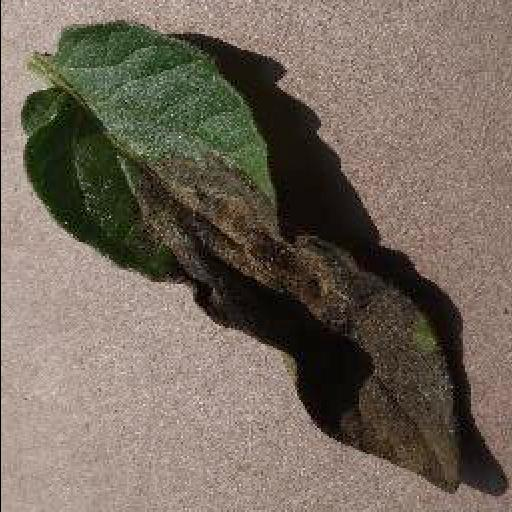disease_tomato: (24, 19, 462, 493)
